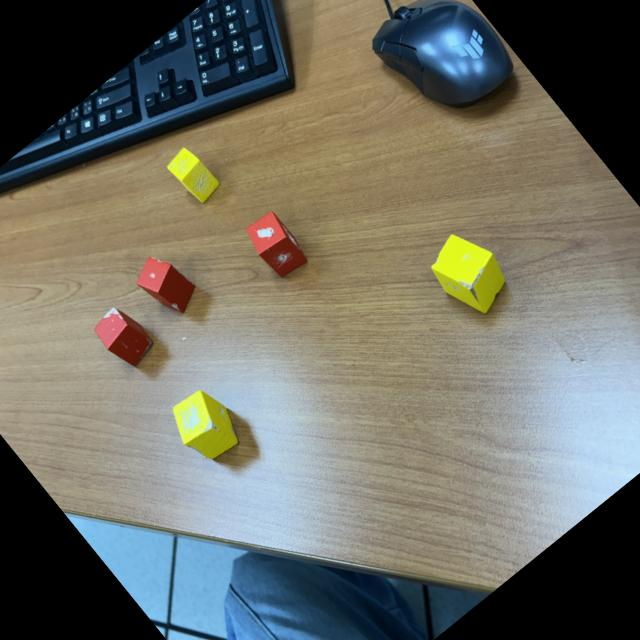broken: (416, 216, 522, 326), (158, 377, 250, 471), (126, 242, 206, 326), (238, 204, 314, 284), (86, 297, 162, 376), (162, 142, 225, 208)
